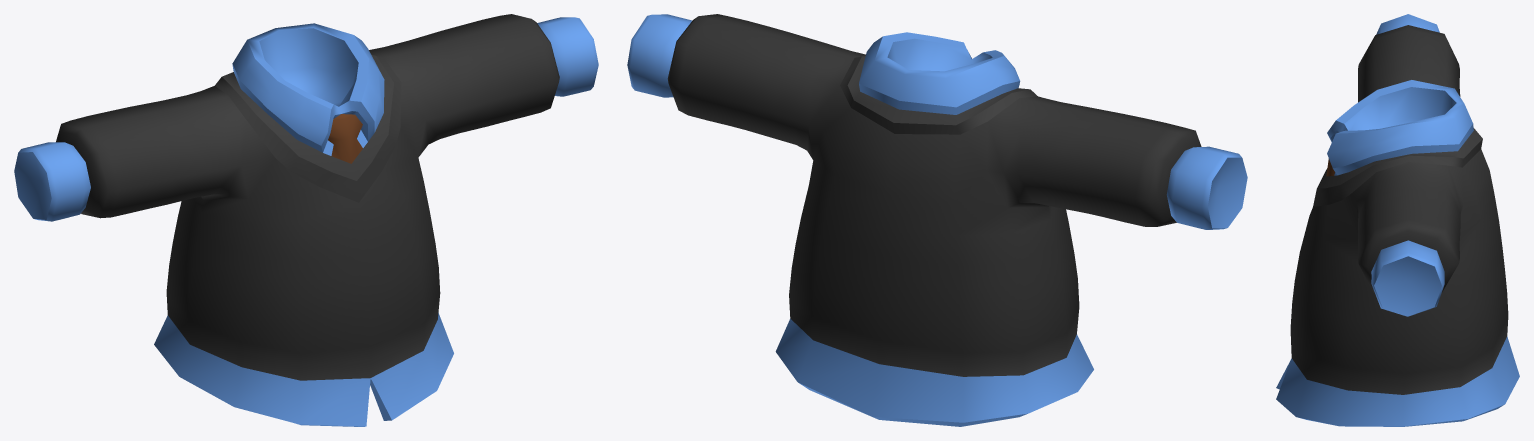
Rendered from Top_40.fbx.
The picture shows the model from 3 angles, left to right: view 1: azimuth 30°, elevation 25°; view 2: azimuth 150°, elevation 25°; view 3: azimuth 270°, elevation 25°; orthographic projection. The views are drawn at different scales.
Visible parts, largest first — view 1: Top_40; view 2: Top_40; view 3: Top_40.
Part boxes in pixels (box(x1,y1,x2,y2)): Top_40: box(14, 14, 598, 426); Top_40: box(627, 14, 1247, 426); Top_40: box(1276, 14, 1519, 426).
Bounding box in the file's own units: 94.82 × 54.29 × 40.36.
